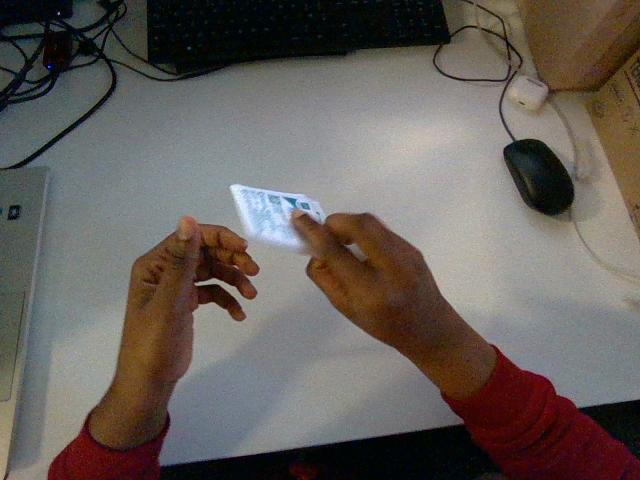gauze: (230, 184, 325, 253)
